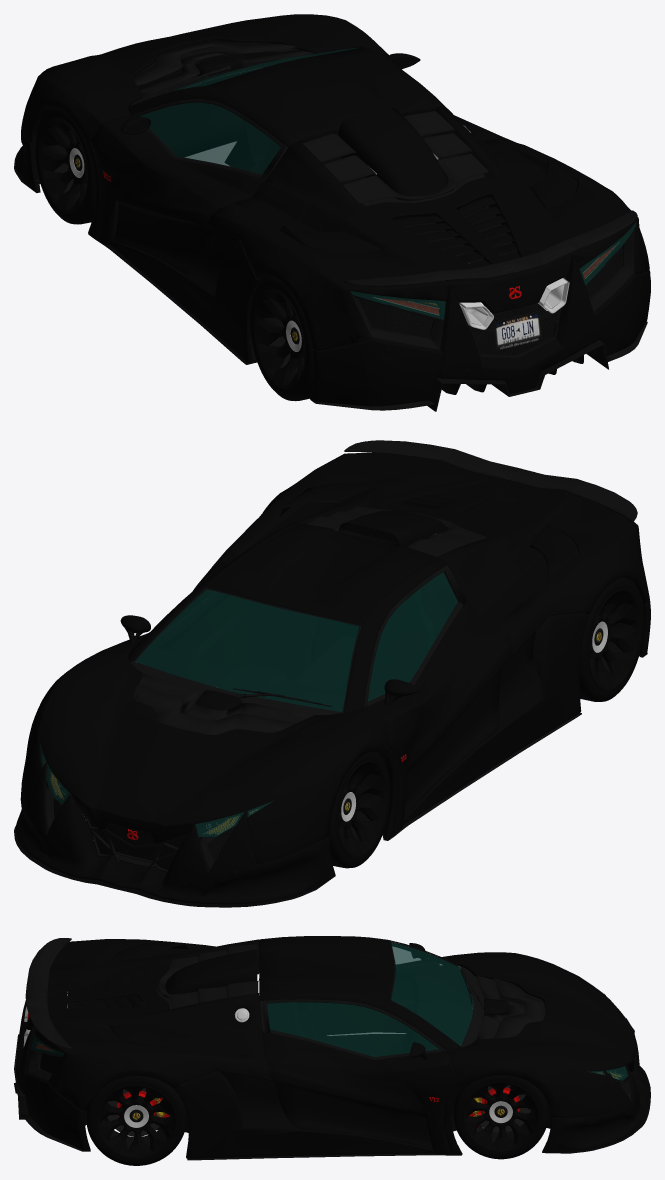
Rendered from goblin.glb.
3 renders of one model, top to bottom at view 1: azimuth 30°, elevation 25°; view 2: azimuth 150°, elevation 25°; view 3: azimuth 270°, elevation 25°, orthographic. The views are drawn at different scales.
Visible parts, largest first — view 1: clearcoat, car_body, car_glass, car_wheel_BL, car_wheel_FL; view 2: clearcoat, car_body, car_glass, car_wheel_BL, car_wheel_FL; view 3: clearcoat, car_body, car_glass, car_wheel_BR, car_wheel_FR.
Part boxes in pixels (<box>): clearcoat: <box>15,14,650,406</box>; car_body: <box>14,40,650,411</box>; car_glass: <box>139,48,636,319</box>; car_wheel_BL: <box>250,276,313,401</box>; car_wheel_FL: <box>35,107,94,224</box>; clearcoat: <box>15,453,650,904</box>; car_body: <box>14,440,647,907</box>; car_glass: <box>40,572,457,837</box>; car_wheel_BL: <box>579,577,644,701</box>; car_wheel_FL: <box>329,751,390,868</box>; clearcoat: <box>16,936,649,1158</box>; car_body: <box>14,938,650,1160</box>; car_glass: <box>31,942,628,1080</box>; car_wheel_BR: <box>86,1075,186,1165</box>; car_wheel_FR: <box>453,1075,548,1159</box>.
Bounding box in the file's own units: 0.0565 × 0.0301 × 0.1181.
Materials: 4 (1 with a texture image).
